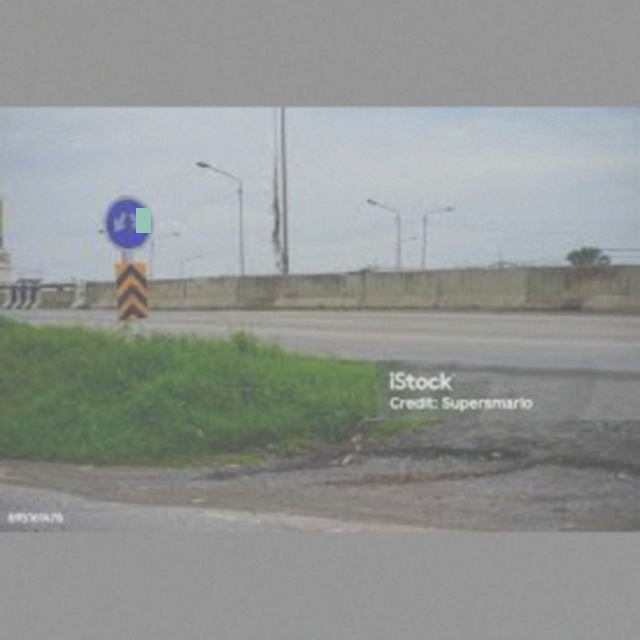Pass_Either_Side: (107, 195, 155, 250)
